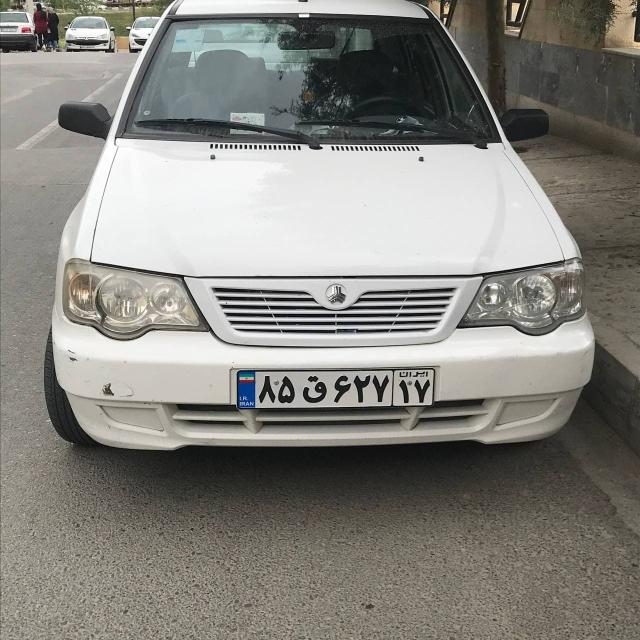Plates: (237, 367, 435, 409)
